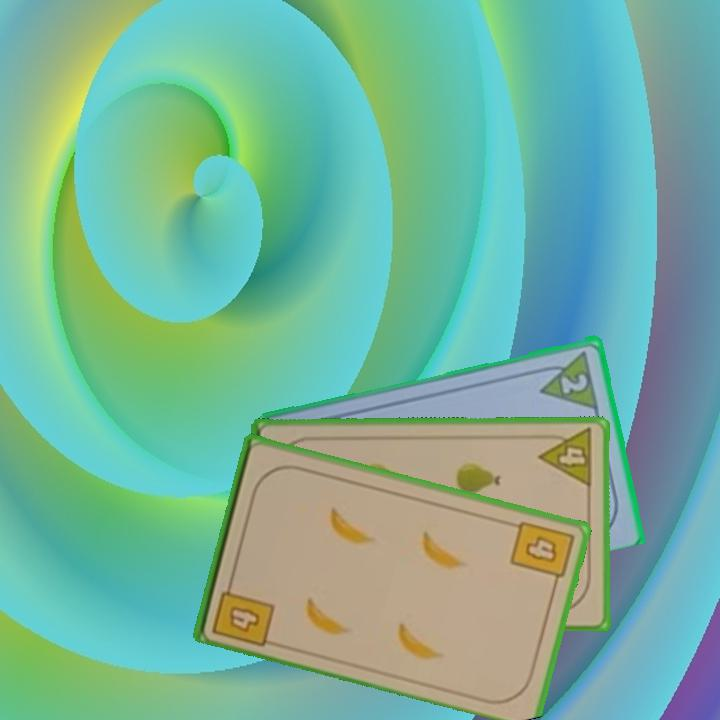2p: (533, 346, 602, 411)
4b: (208, 573, 277, 649), (506, 517, 577, 590)
4p: (536, 425, 596, 490)
